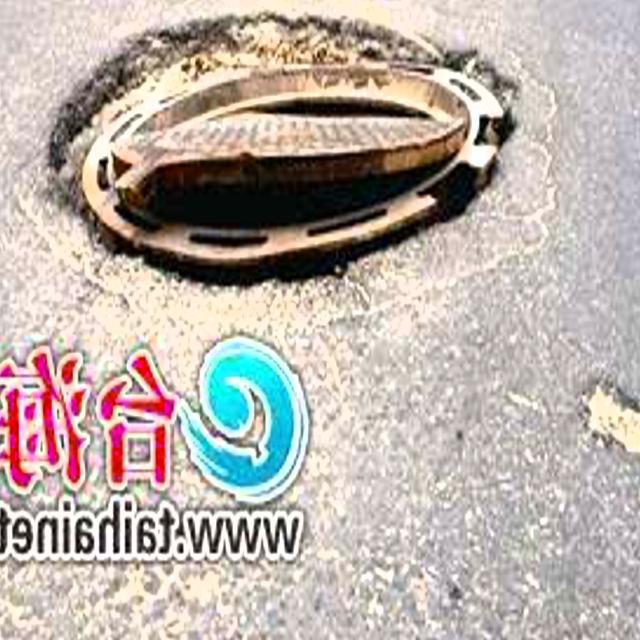circle: (0, 0, 620, 349)
